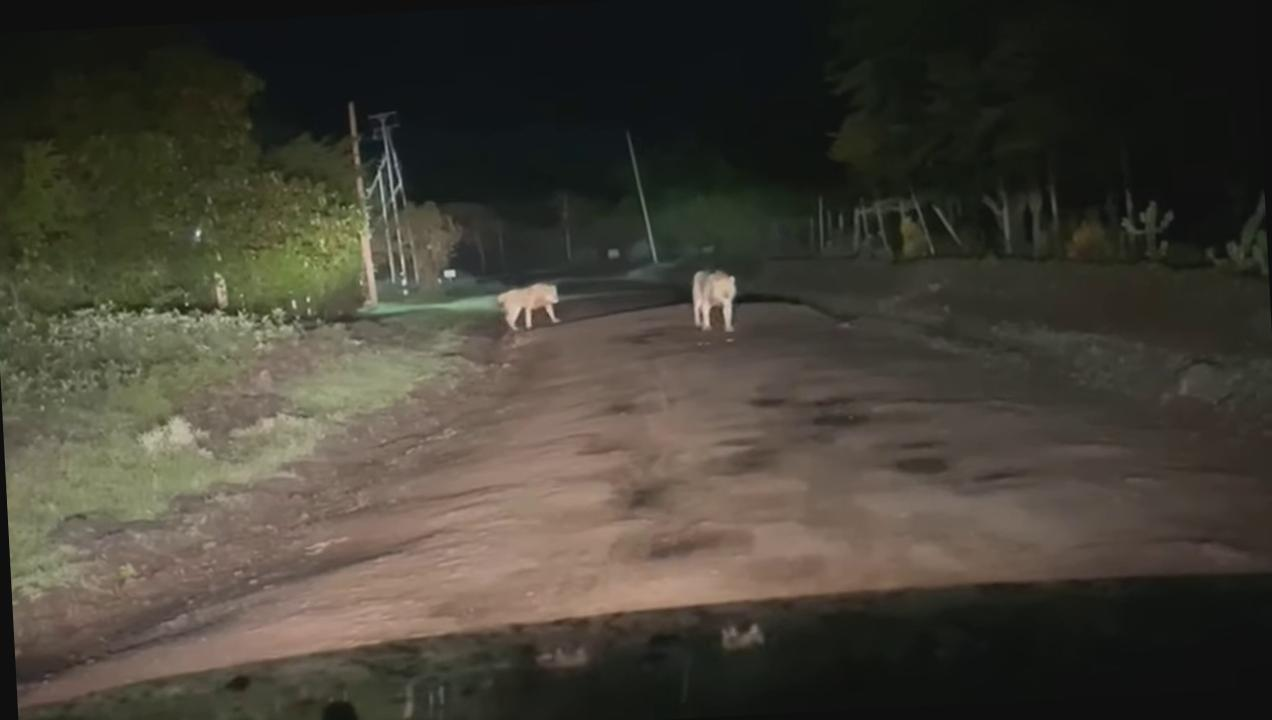lions: (477, 258, 567, 371), (673, 256, 756, 348)
